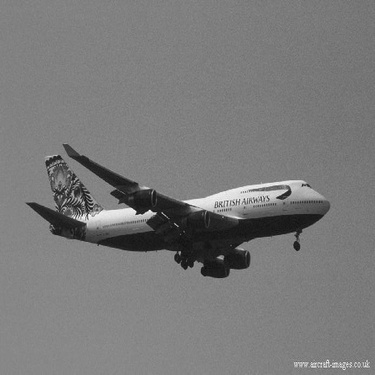airplane: (20, 124, 342, 286)
